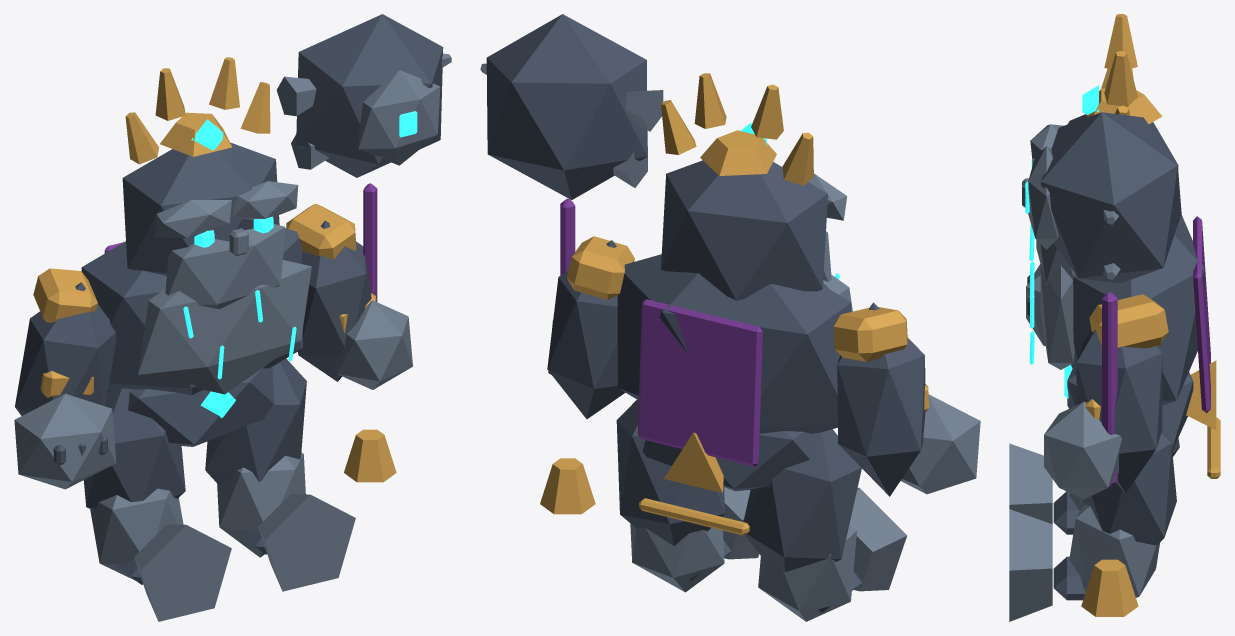
File: king_grom_v1.glb
3 renders of one model, left to right at view 1: azimuth 30°, elevation 25°; view 2: azimuth 150°, elevation 25°; view 3: azimuth 270°, elevation 25°, orthographic. The views are drawn at different scales.
Visible parts, largest first — view 1: Grom_ChestPlate, Grom_CrownBreaker, Grom_HeadCore, Grom_LeftArm, Grom_Torso, Grom_LeftFist, Grom_BootToe_L, Grom_BootToe_R, Grom_Thigh_L, Grom_Beard, Grom_RightArm, Grom_Thigh_R (+19 smaller); view 2: Grom_CrownBreaker, Grom_Torso, Grom_HeadCore, Grom_CapeMain, Grom_Thigh_L, Grom_LeftArm, Grom_RightArm, Grom_Thigh_R, Grom_LeftFist, Grom_Shin_L, Grom_Shin_R, Grom_BootToe_L (+16 smaller); view 3: Grom_CrownBreaker, Grom_Torso, Grom_RightArm, Grom_RightFist, Grom_Thigh_R, Grom_BootToe_R, Grom_Shin_R, Grom_ChestPlate, Grom_BootToe_L, Grom_RightPauldron, Grom_StaffButt, Grom_CapeMain (+14 smaller).
Part boxes in pixels (box(x1,y1,x2,y2)): Grom_ChestPlate: box(138, 260, 311, 394); Grom_CrownBreaker: box(296, 14, 443, 177); Grom_HeadCore: box(122, 142, 279, 275); Grom_LeftArm: box(15, 282, 116, 415); Grom_Torso: box(81, 228, 302, 395); Grom_LeftFist: box(14, 393, 116, 489); Grom_BootToe_L: box(134, 524, 231, 621); Grom_BootToe_R: box(258, 494, 355, 591); Grom_Thigh_L: box(83, 388, 185, 509); Grom_Beard: box(165, 224, 285, 309); Grom_RightArm: box(298, 220, 371, 381); Grom_Thigh_R: box(205, 358, 306, 484); Grom_CrownBreaker: box(486, 14, 647, 199); Grom_Torso: box(617, 254, 851, 433); Grom_HeadCore: box(661, 160, 827, 300); Grom_CapeMain: box(637, 299, 762, 466); Grom_Thigh_L: box(743, 429, 861, 572); Grom_LeftArm: box(837, 302, 925, 496); Grom_RightArm: box(547, 240, 625, 419); Grom_Thigh_R: box(616, 399, 724, 545); Grom_LeftFist: box(901, 394, 980, 494); Grom_Shin_L: box(758, 525, 856, 621); Grom_Shin_R: box(630, 523, 724, 592); Grom_BootToe_L: box(849, 487, 907, 591); Grom_CrownBreaker: box(1040, 112, 1181, 283); Grom_Torso: box(1071, 214, 1204, 405); Grom_RightArm: box(1076, 304, 1162, 493); Grom_RightFist: box(1044, 402, 1121, 499); Grom_Thigh_R: box(1083, 432, 1176, 545); Grom_BootToe_R: box(1009, 509, 1052, 621); Grom_Shin_R: box(1069, 504, 1160, 597); Grom_ChestPlate: box(1040, 264, 1074, 369); Grom_BootToe_L: box(1009, 443, 1052, 524); Grom_RightPauldron: box(1089, 294, 1168, 348); Grom_StaffButt: box(1081, 559, 1138, 616); Grom_CapeMain: box(1193, 216, 1210, 413).
Size of the model in its own units: 4.71 by 5.18 by 1.76.
